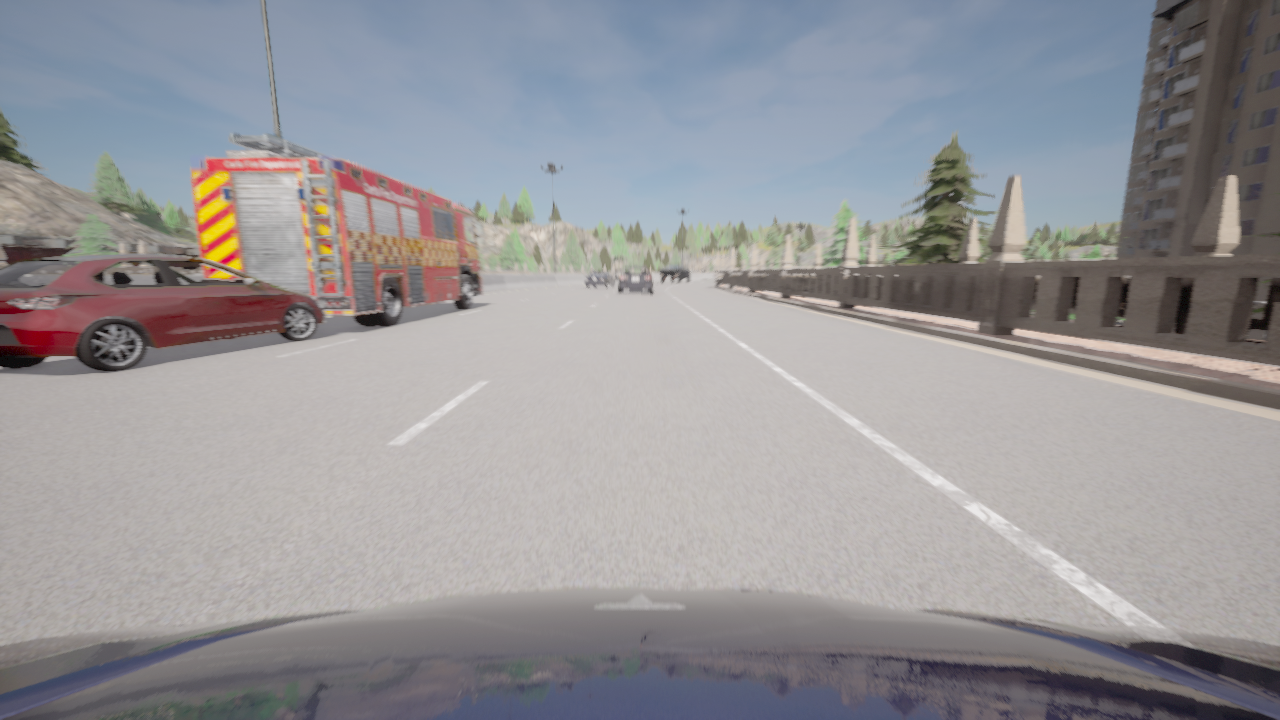cyclist: (0, 588, 1279, 719), (190, 134, 483, 326), (0, 254, 324, 371), (618, 266, 653, 293), (659, 265, 690, 283), (584, 271, 615, 288), (613, 270, 622, 280)
